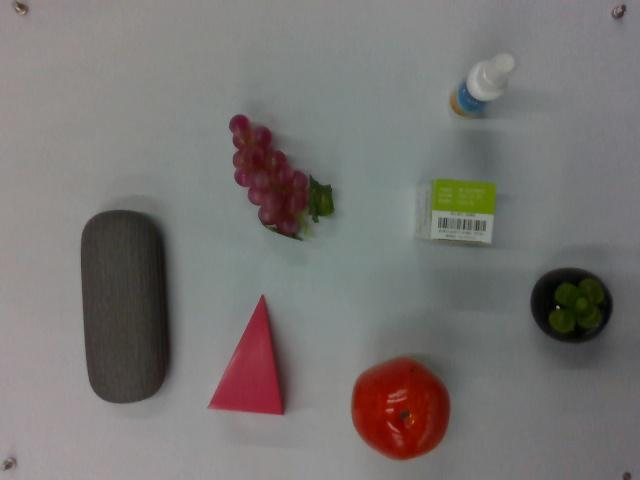carton: (414, 177, 500, 254)
detergent: (448, 53, 515, 123)
glassescase: (81, 207, 173, 407)
grape: (226, 111, 337, 239)
mangosteen: (528, 265, 616, 347)
pomegranate: (350, 350, 455, 463)
pyramid: (208, 292, 292, 418)
